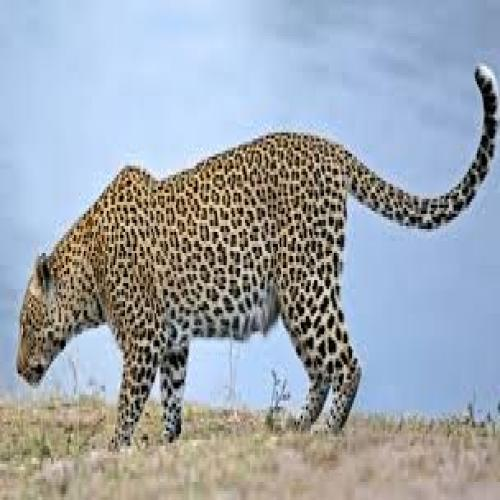jaguar_not-endangered: (14, 68, 500, 449)
